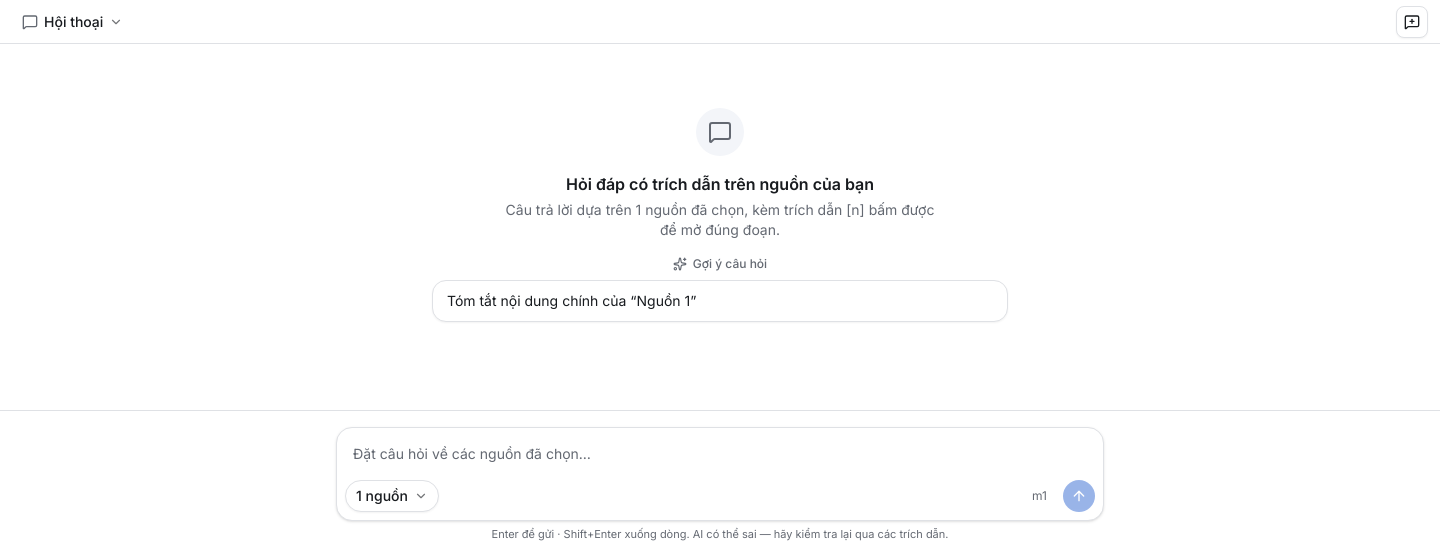
Test: ChatPanel: dấu lỗi gửi câu hỏi + Thử lại › lỗi giữa luồng sau khi server đã lưu (meta có userMessageId): thử lại bằng regenerate, không tạo tin người dùng trùng
Expected: the button with test id "scope-button" shows "1", top-left (345, 480), bottom-right (439, 512)
Type "Câu A?" into the text box with test id "chat-input".
click(720, 456); type("Câu A?")  # box top-left (345, 436), bottom-right (1095, 476)
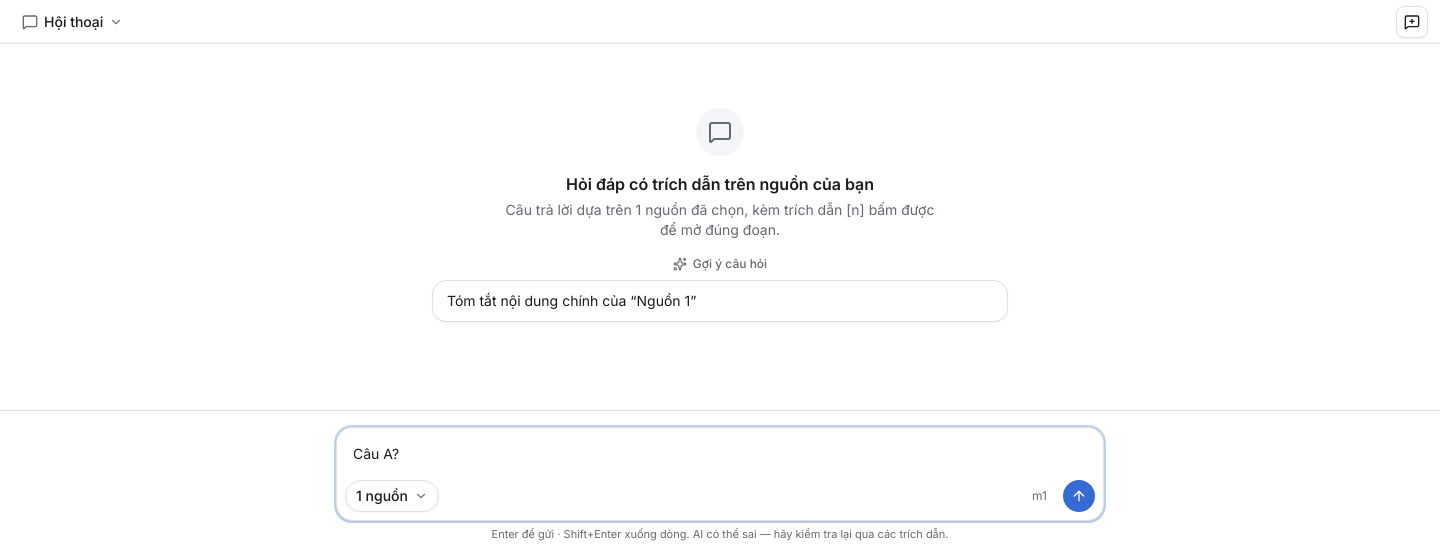
Click the button with test id "send-button".
click(1079, 496)  # box top-left (1063, 480), bottom-right (1095, 512)
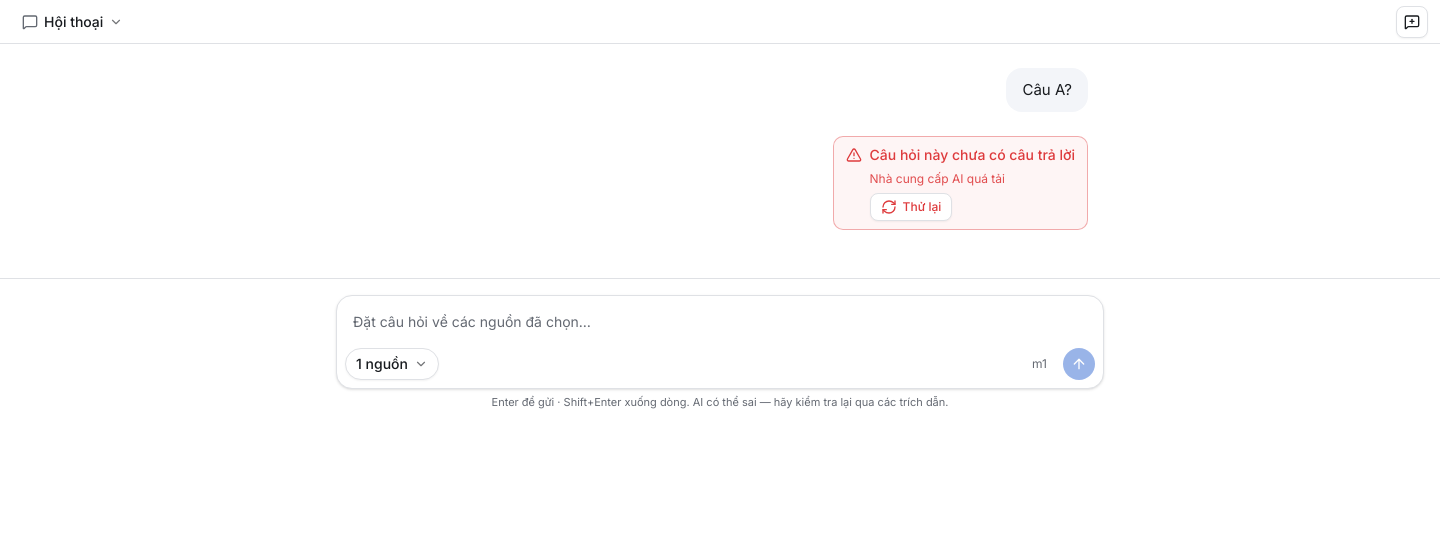
Now the message with test id "chat-send-error" shows "Nhà cung cấp AI quá tải", box top-left (870, 171), bottom-right (1005, 186)
Now the number of elements with test id "user-message" is 1, box top-left (1006, 68), bottom-right (1088, 112)
Click the button with test id "chat-retry".
click(911, 207)  # box top-left (870, 193), bottom-right (952, 221)
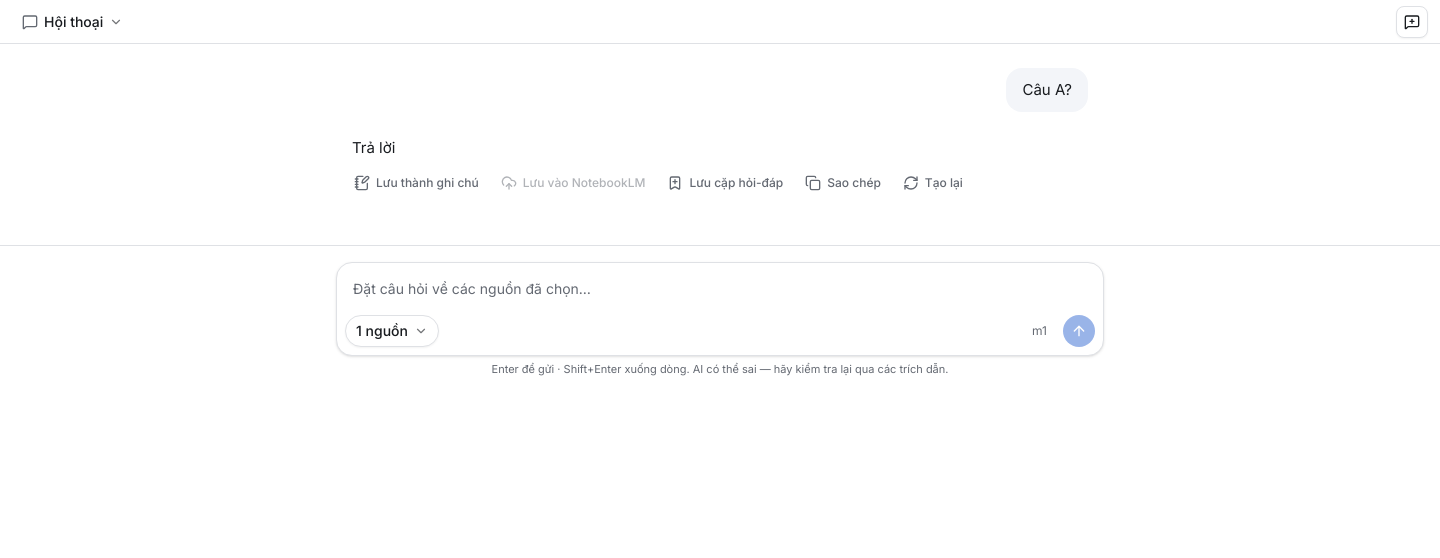
Now the number of elements with test id "user-message" is 1, box top-left (1006, 68), bottom-right (1088, 112)
Now the element with test id "assistant-message" is shown, box top-left (352, 136), bottom-right (1088, 197)
Now the message with test id "chat-send-error" is gone
